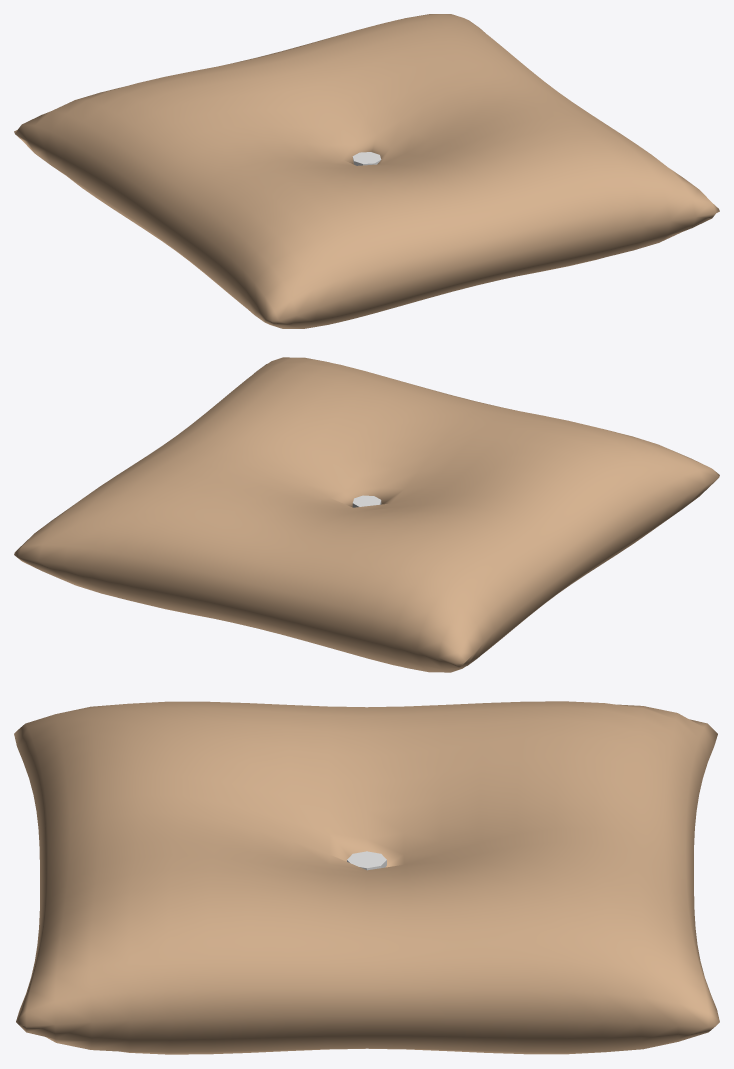
Rendered from ChairFoxle.fbx.
The picture shows the model from 3 angles, top to bottom: view 1: azimuth 30°, elevation 25°; view 2: azimuth 150°, elevation 25°; view 3: azimuth 270°, elevation 25°; orthographic projection. The views are drawn at different scales.
Parts seen in each view (by area): view 1: Foxle Pillow; view 2: Foxle Pillow; view 3: Foxle Pillow.
Part boxes in pixels (x1,y1,x2,y2): Foxle Pillow: [14, 14, 719, 328]; Foxle Pillow: [14, 357, 719, 672]; Foxle Pillow: [14, 701, 719, 1054].
Bounding box in the file's own units: 176 × 41 × 176.
